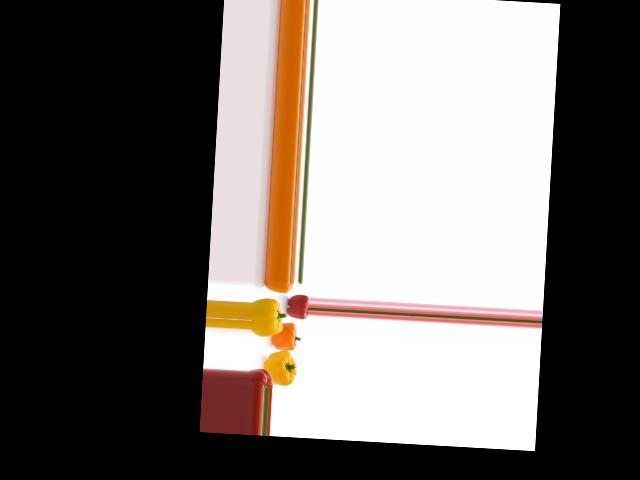bell_pepper: (263, 279, 295, 295)
